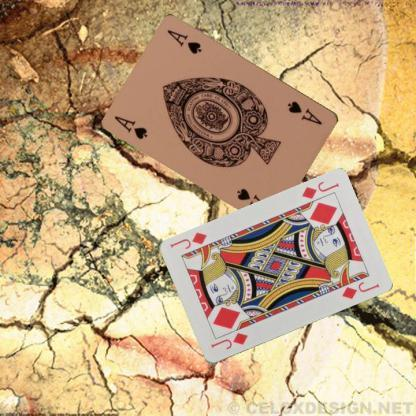As: (284, 98, 324, 126), (112, 114, 149, 140)
Jd: (207, 330, 249, 352), (298, 179, 340, 201)
